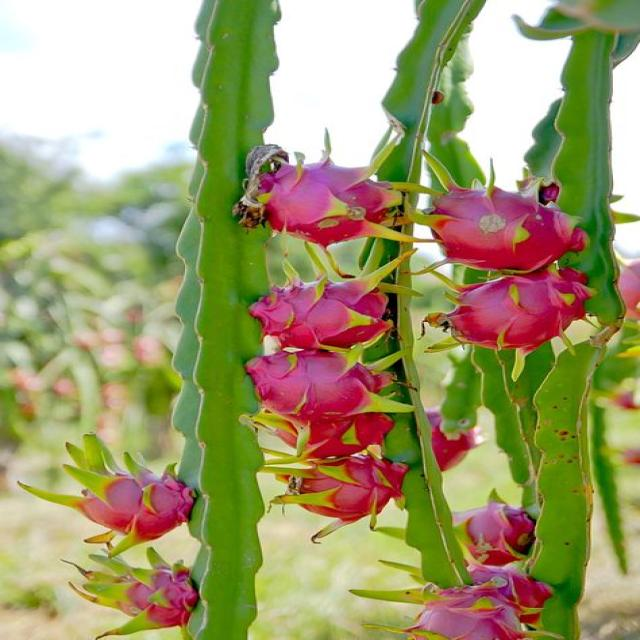Thanh Long: (425, 163, 584, 276), (33, 446, 203, 540), (252, 146, 405, 250), (243, 259, 403, 350), (436, 275, 602, 354), (64, 547, 205, 638), (256, 349, 406, 412), (265, 452, 410, 513), (262, 400, 408, 454), (399, 594, 534, 640), (449, 567, 556, 625), (458, 501, 540, 565), (425, 412, 476, 460)
